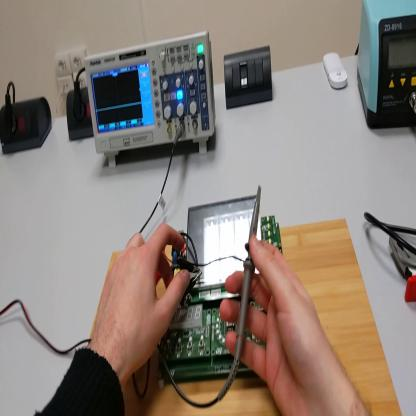hand: (220, 233, 335, 411), (94, 222, 193, 378)
low voltage board: (157, 204, 285, 384)
oscilloscope: (86, 33, 216, 167)
oscilloscope probe tip: (235, 188, 265, 365)
pliers: (389, 231, 416, 303)
socket: (2, 94, 52, 157), (67, 83, 95, 142)
welder station: (358, 2, 416, 132)
working area: (125, 206, 403, 415)
